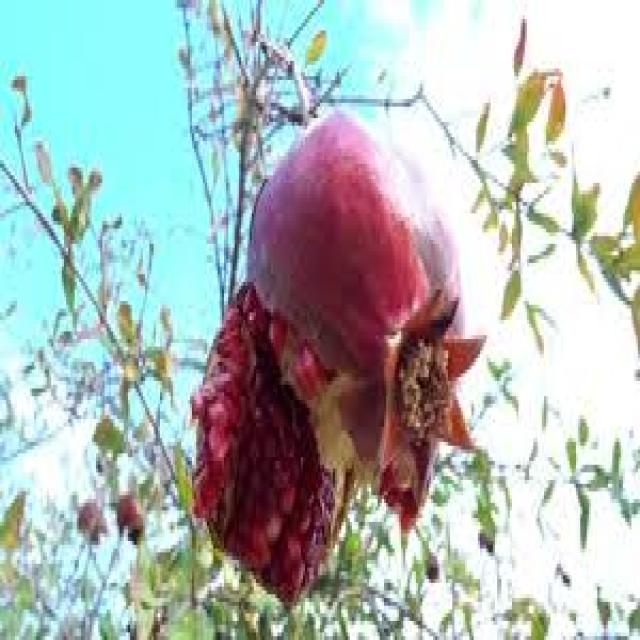overripe: (177, 109, 488, 608)
